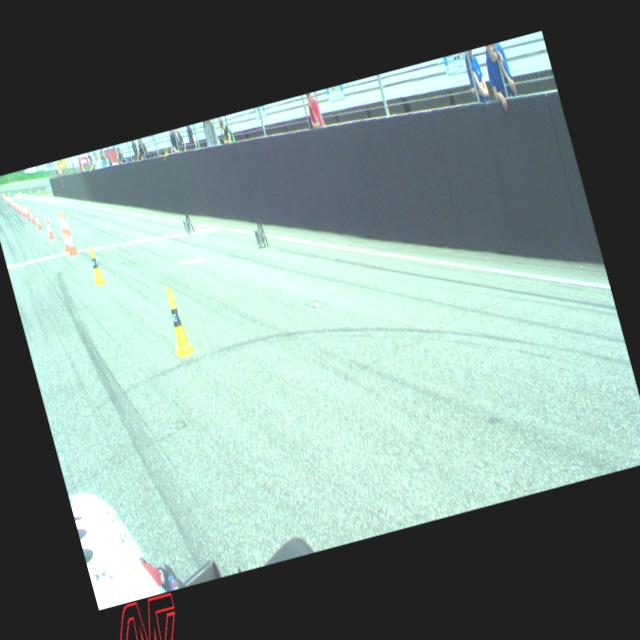large_orange_cone: (58, 210, 78, 256), (55, 211, 71, 252)
orange_cone: (44, 218, 54, 238), (34, 213, 42, 229), (28, 208, 35, 222), (22, 206, 28, 218), (20, 205, 26, 216), (16, 201, 21, 211), (24, 204, 28, 214), (14, 201, 18, 210), (12, 200, 15, 208)
yellow_cone: (158, 286, 196, 358), (85, 245, 105, 285)
